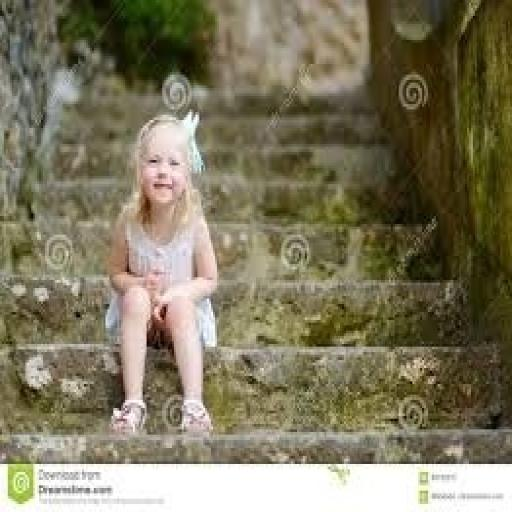sitting: (103, 107, 219, 437)
